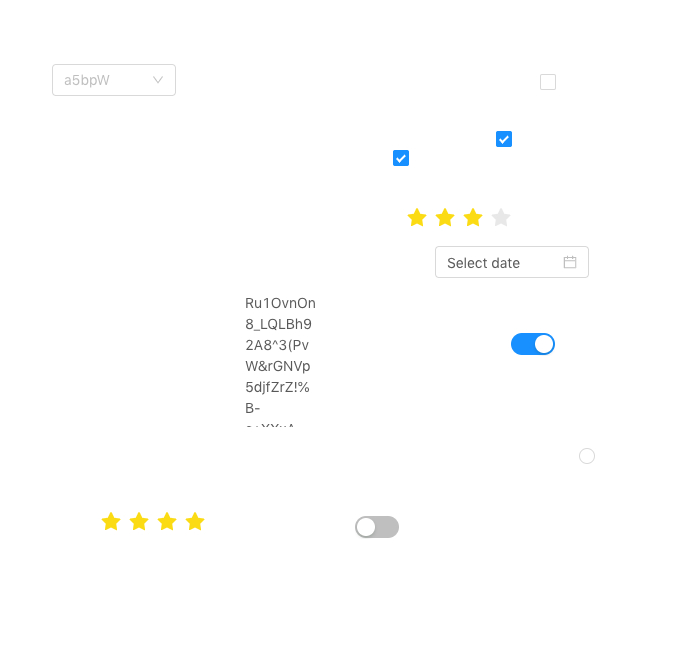Checkbox: (496, 128, 512, 149), (540, 71, 556, 92), (393, 147, 409, 168)
DatePicker: (435, 246, 589, 278)
Radio: (579, 445, 595, 465)
Rate: (101, 505, 221, 537), (407, 201, 527, 233)
Select: (52, 64, 176, 96)
Switch: (511, 332, 555, 356), (355, 515, 399, 539)
Text: (245, 292, 317, 427)
